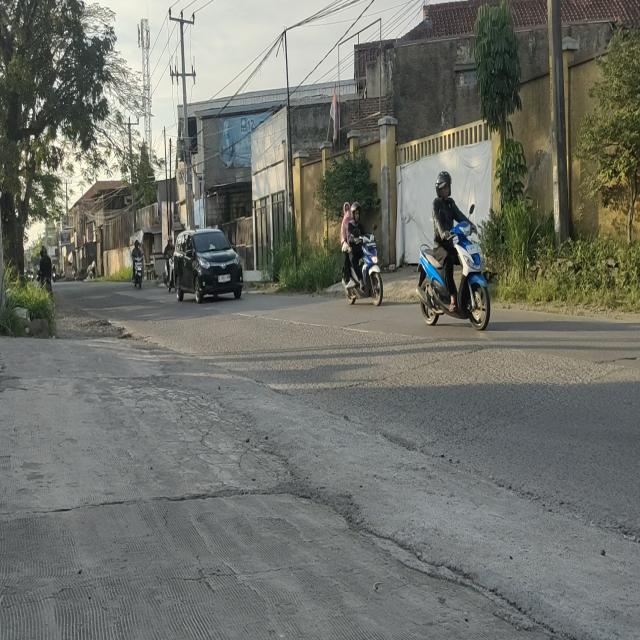helmet: (436, 168, 451, 198), (350, 201, 361, 223)
no-helmet: (342, 201, 350, 221)
